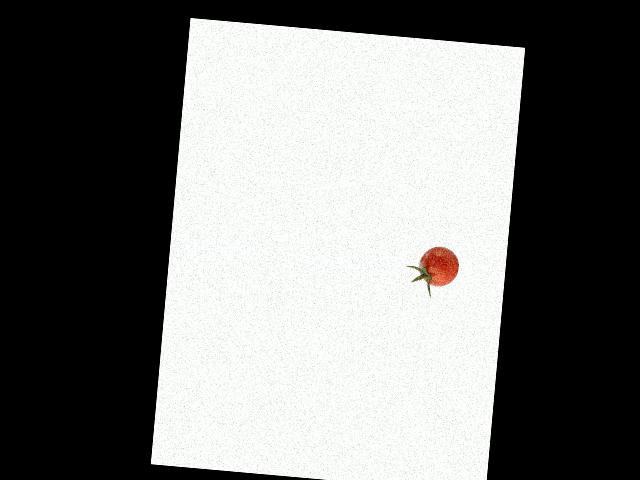tomato: (418, 244, 460, 287)
